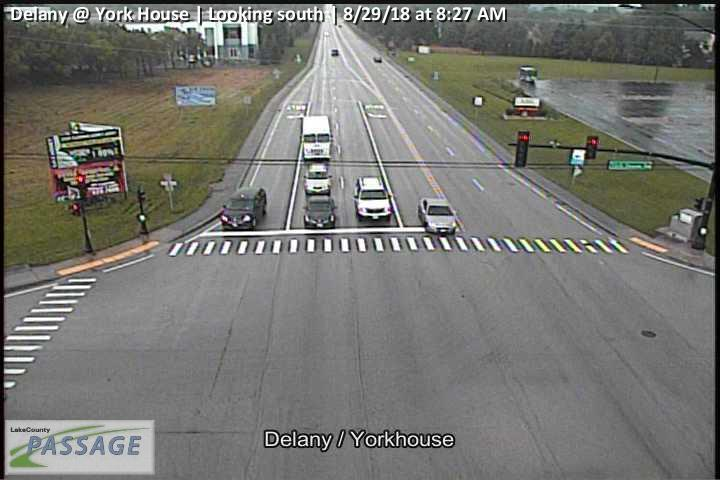SUV: (221, 186, 267, 231), (353, 175, 392, 223), (304, 163, 331, 193)
Sedan: (418, 197, 457, 235), (304, 195, 337, 227), (374, 55, 382, 61), (331, 48, 337, 55)
Truck: (302, 115, 331, 161)
